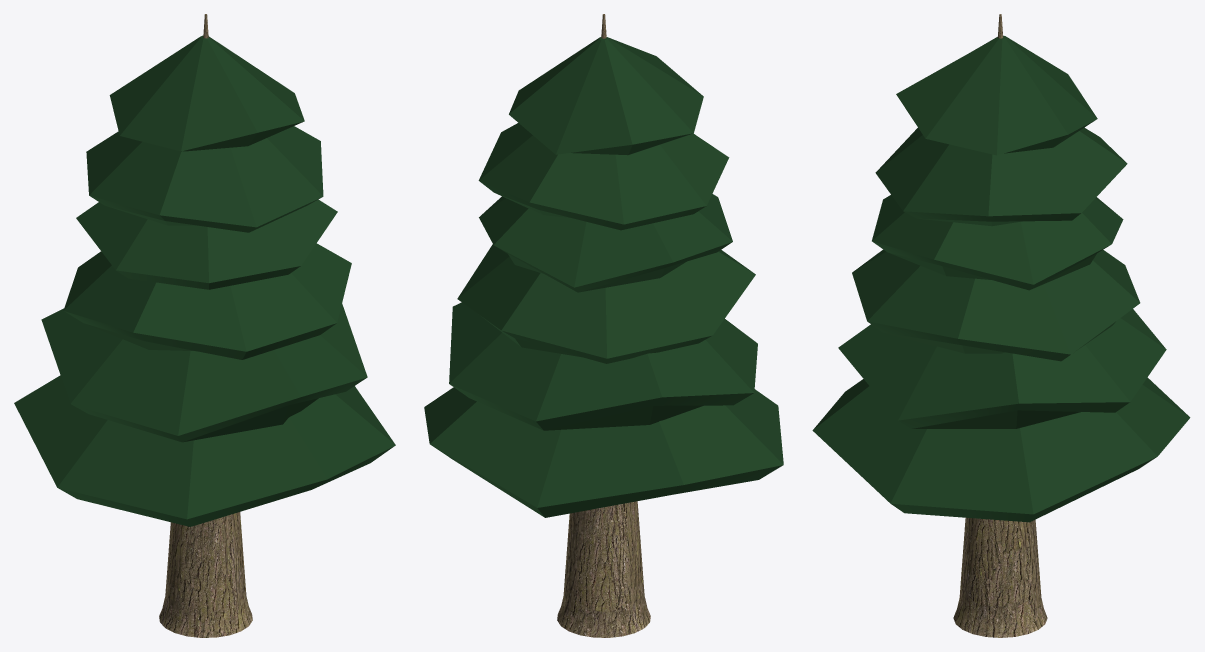
Rendered from pine tree low poly.obj.
3 views of the same model, side by side, from view 1: azimuth 30°, elevation 25°; view 2: azimuth 150°, elevation 25°; view 3: azimuth 270°, elevation 25° (orthographic).
Visible parts, largest first — view 1: group1 pCylinder7, group1 pCylinder6, group1 pCylinder5, group1 pCylinder3, group1 pCylinder2, group1 pCylinder4, pCylinder1 group1; view 2: group1 pCylinder7, group1 pCylinder6, group1 pCylinder5, group1 pCylinder3, group1 pCylinder2, group1 pCylinder4, pCylinder1 group1; view 3: group1 pCylinder7, group1 pCylinder6, group1 pCylinder5, group1 pCylinder3, group1 pCylinder2, group1 pCylinder4, pCylinder1 group1.
Part boxes in pixels (bbox=[...]): group1 pCylinder7: bbox=[14, 375, 395, 526]; group1 pCylinder6: bbox=[41, 303, 367, 442]; group1 pCylinder5: bbox=[63, 243, 351, 359]; group1 pCylinder3: bbox=[86, 126, 323, 232]; group1 pCylinder2: bbox=[109, 35, 304, 151]; group1 pCylinder4: bbox=[76, 199, 337, 289]; pCylinder1 group1: bbox=[159, 14, 252, 637]; group1 pCylinder7: bbox=[424, 387, 783, 517]; group1 pCylinder6: bbox=[449, 302, 757, 430]; group1 pCylinder5: bbox=[457, 244, 755, 363]; group1 pCylinder3: bbox=[478, 123, 729, 230]; group1 pCylinder2: bbox=[509, 37, 703, 155]; group1 pCylinder4: bbox=[479, 194, 732, 292]; pCylinder1 group1: bbox=[557, 14, 650, 637]; group1 pCylinder7: bbox=[812, 377, 1190, 522]; group1 pCylinder6: bbox=[838, 309, 1166, 428]; group1 pCylinder5: bbox=[852, 249, 1140, 361]; group1 pCylinder3: bbox=[875, 127, 1127, 226]; group1 pCylinder2: bbox=[896, 35, 1097, 155]; group1 pCylinder4: bbox=[872, 195, 1123, 290]; pCylinder1 group1: bbox=[953, 14, 1047, 637].
Size of the model in its own units: 18.36 by 32.33 by 18.35.
Materials: 2 (1 with a texture image).
